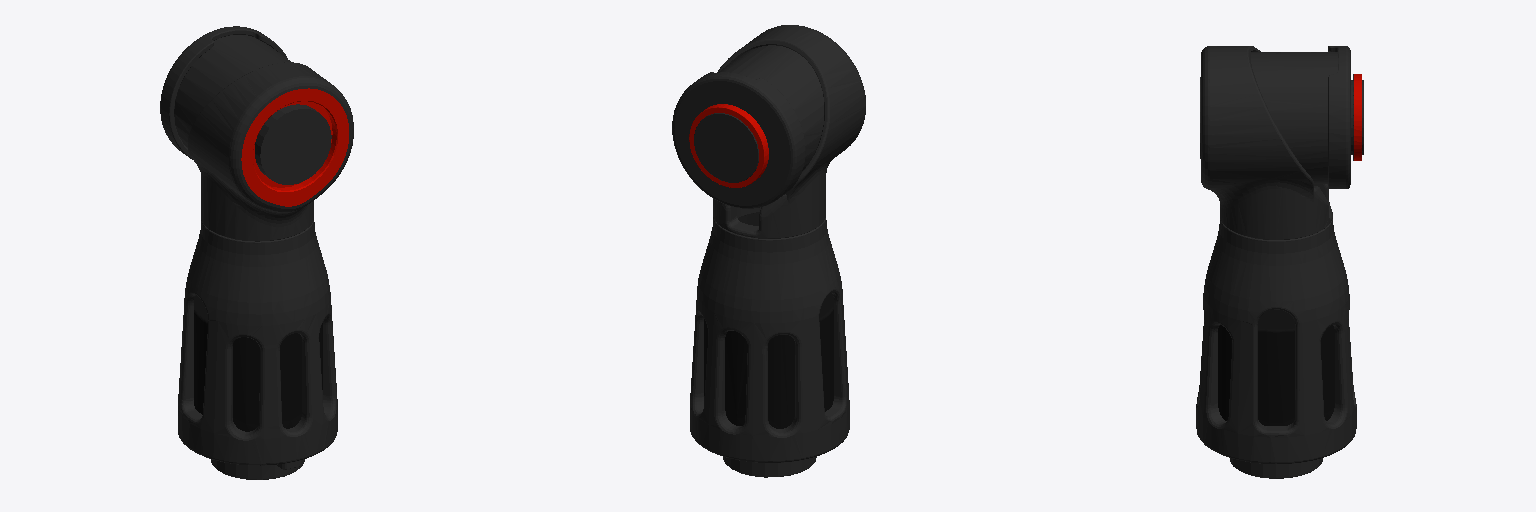
3 renders of one model, left to right at view 1: azimuth 30°, elevation 25°; view 2: azimuth 150°, elevation 25°; view 3: azimuth 270°, elevation 25°, orthographic.
Parts seen in each view (by area): view 1: AL3; view 2: AL3; view 3: AL3.
Boxes of the visible parts, <box> form: AL3: <box>160,26,353,479</box>; AL3: <box>672,25,865,477</box>; AL3: <box>1196,46,1363,478</box>.
Size of the model in its own units: 0.068 by 0.1906 by 0.071.